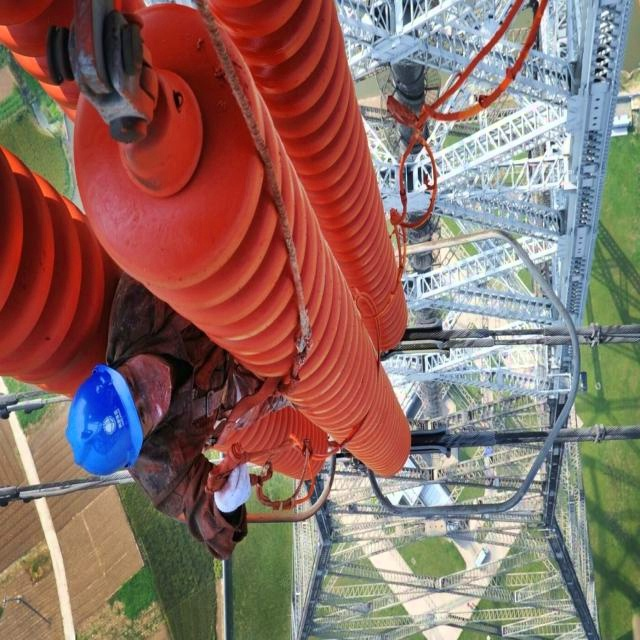Con_Casco: (65, 351, 171, 475)
